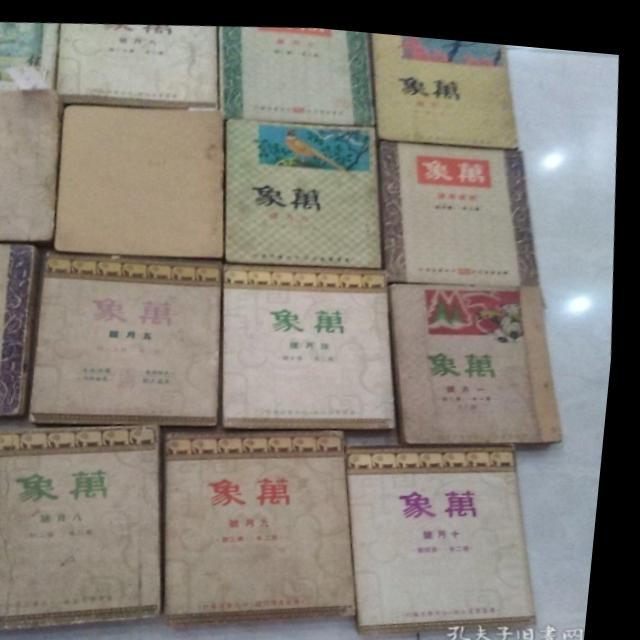box: (171, 424, 367, 623), (352, 434, 549, 628), (0, 422, 172, 631), (37, 249, 228, 423), (227, 257, 404, 424), (392, 274, 569, 435), (59, 102, 226, 253), (228, 115, 387, 260), (379, 133, 544, 272), (371, 26, 518, 139), (220, 22, 376, 118), (59, 22, 223, 102), (0, 89, 59, 240), (0, 242, 46, 417)
